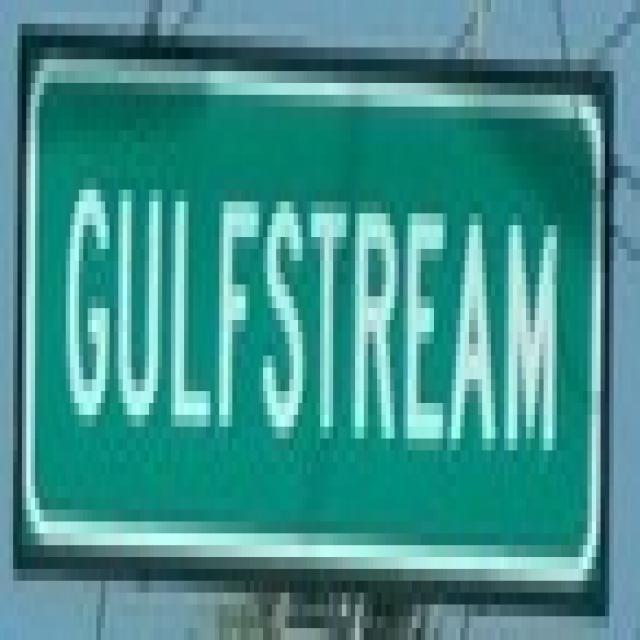licenseplate: (19, 30, 602, 602)
